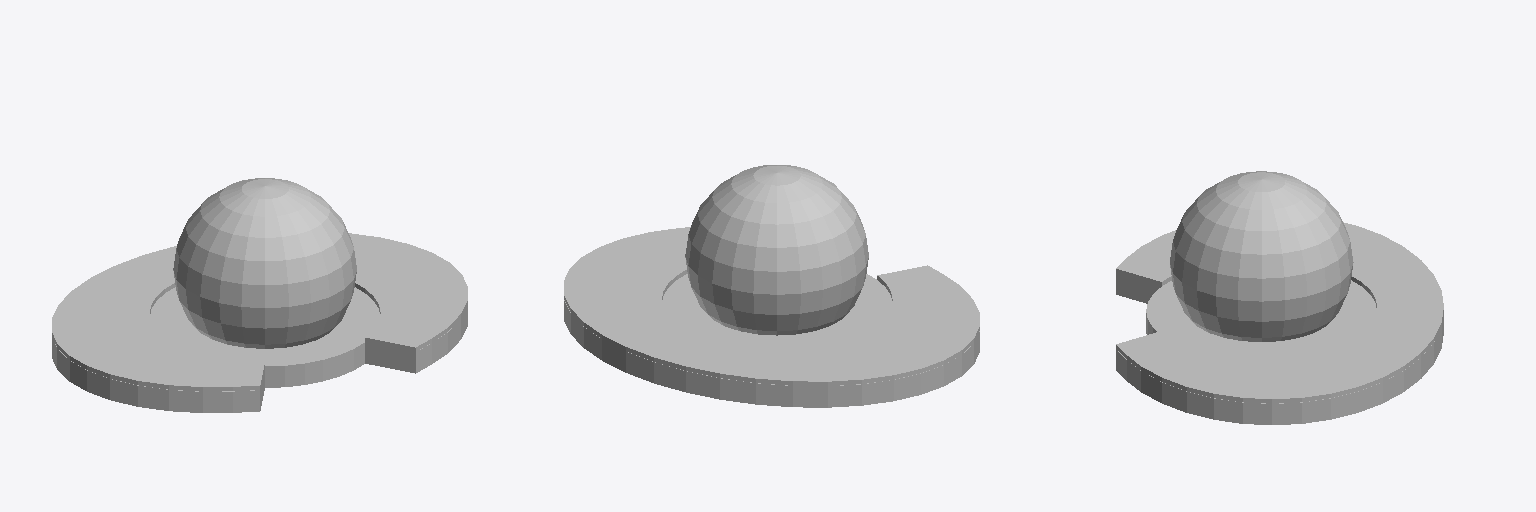
File: 杭州B.obj
The picture shows the model from 3 angles: view 1: azimuth 30°, elevation 25°; view 2: azimuth 150°, elevation 25°; view 3: azimuth 270°, elevation 25°; orthographic projection.
Visible parts, largest first — view 1: 圆柱.1, 球体.1; view 2: 圆柱.1, 球体.1; view 3: 圆柱.1, 球体.1.
Part boxes in pixels (x1,y1,x2,y2): 圆柱.1: (52, 233, 467, 412); 球体.1: (173, 178, 356, 348); 圆柱.1: (564, 227, 979, 407); 球体.1: (685, 165, 868, 335); 圆柱.1: (1116, 222, 1443, 424); 球体.1: (1170, 171, 1353, 341).
Bounding box in the file's own units: 631 × 242 × 471.